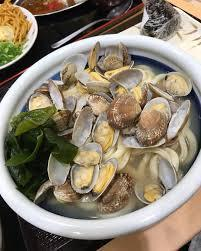asari: (1, 31, 201, 245)
